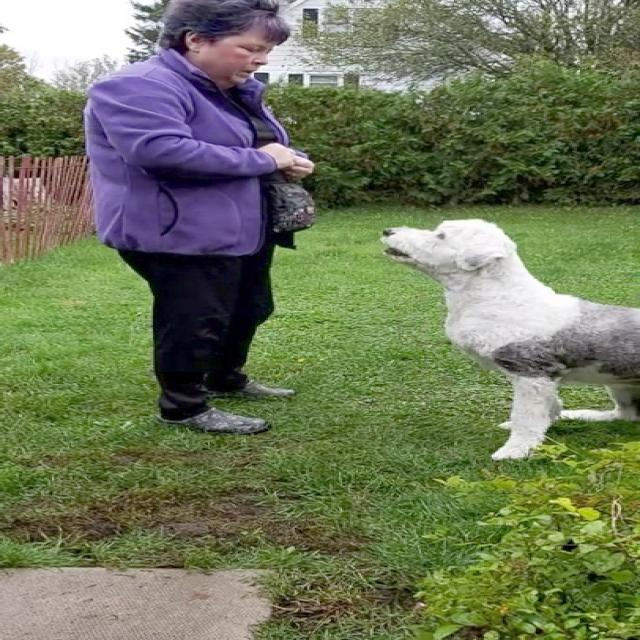Unleashed_Dog: (150, 219, 640, 459)
